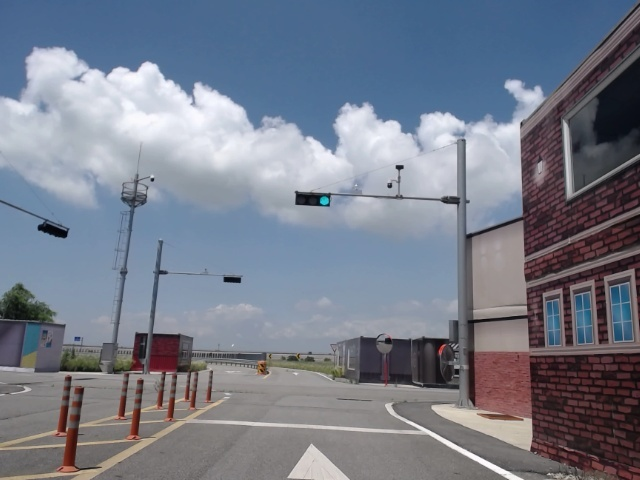green_3: (295, 191, 332, 207)
